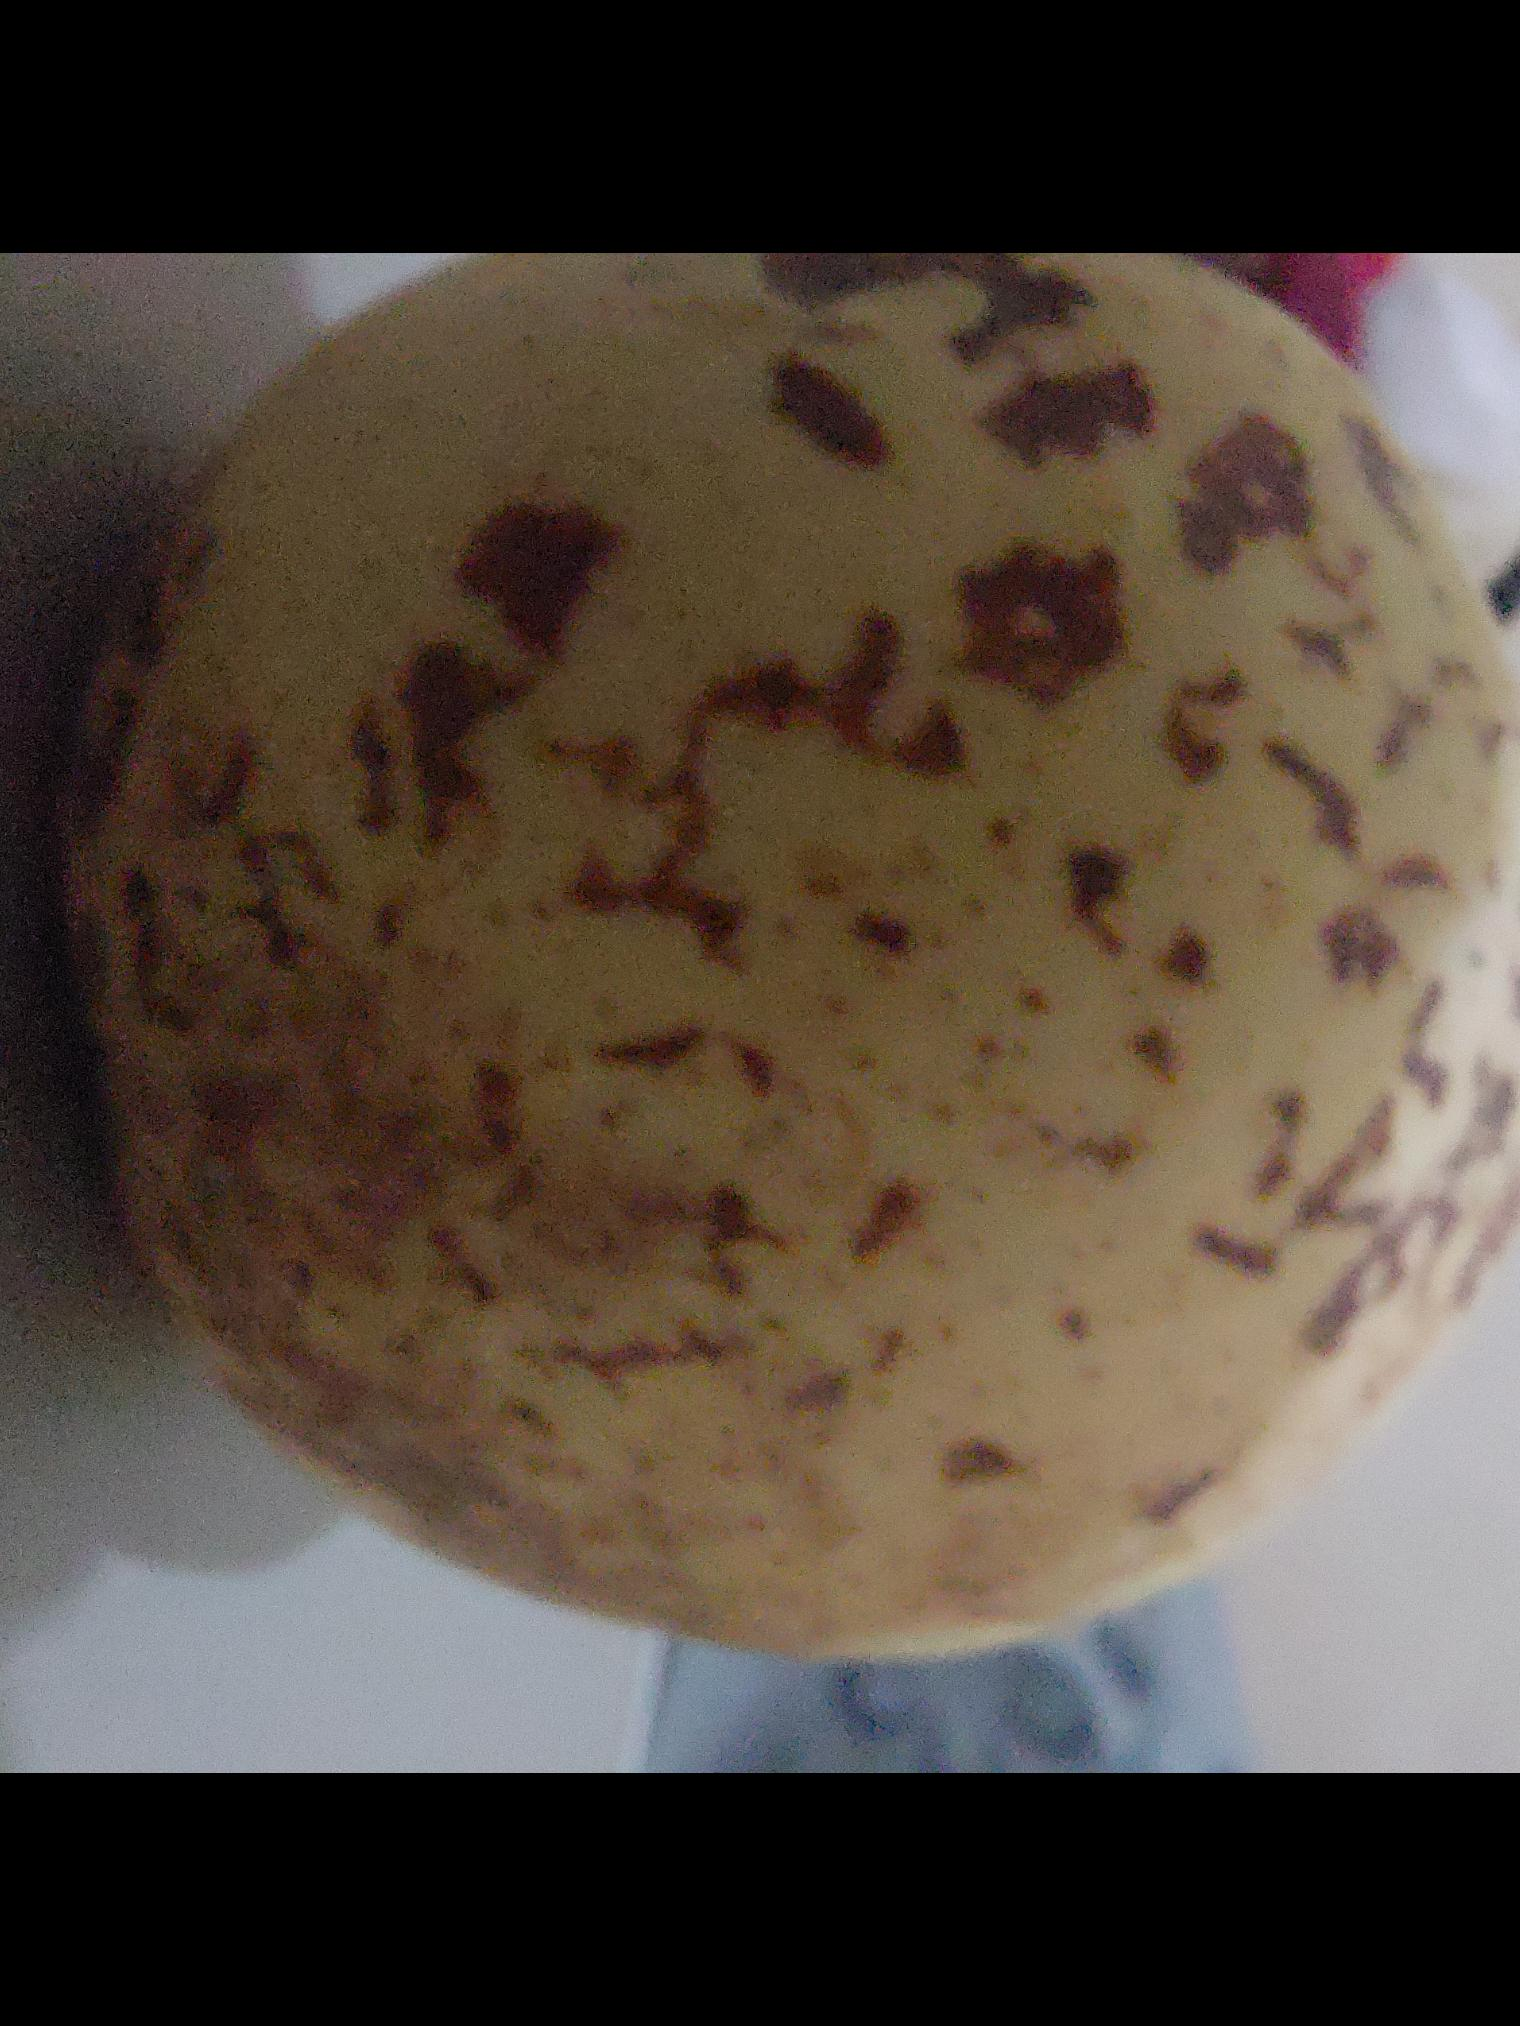Bad Pear: (54, 252, 1520, 1681)
